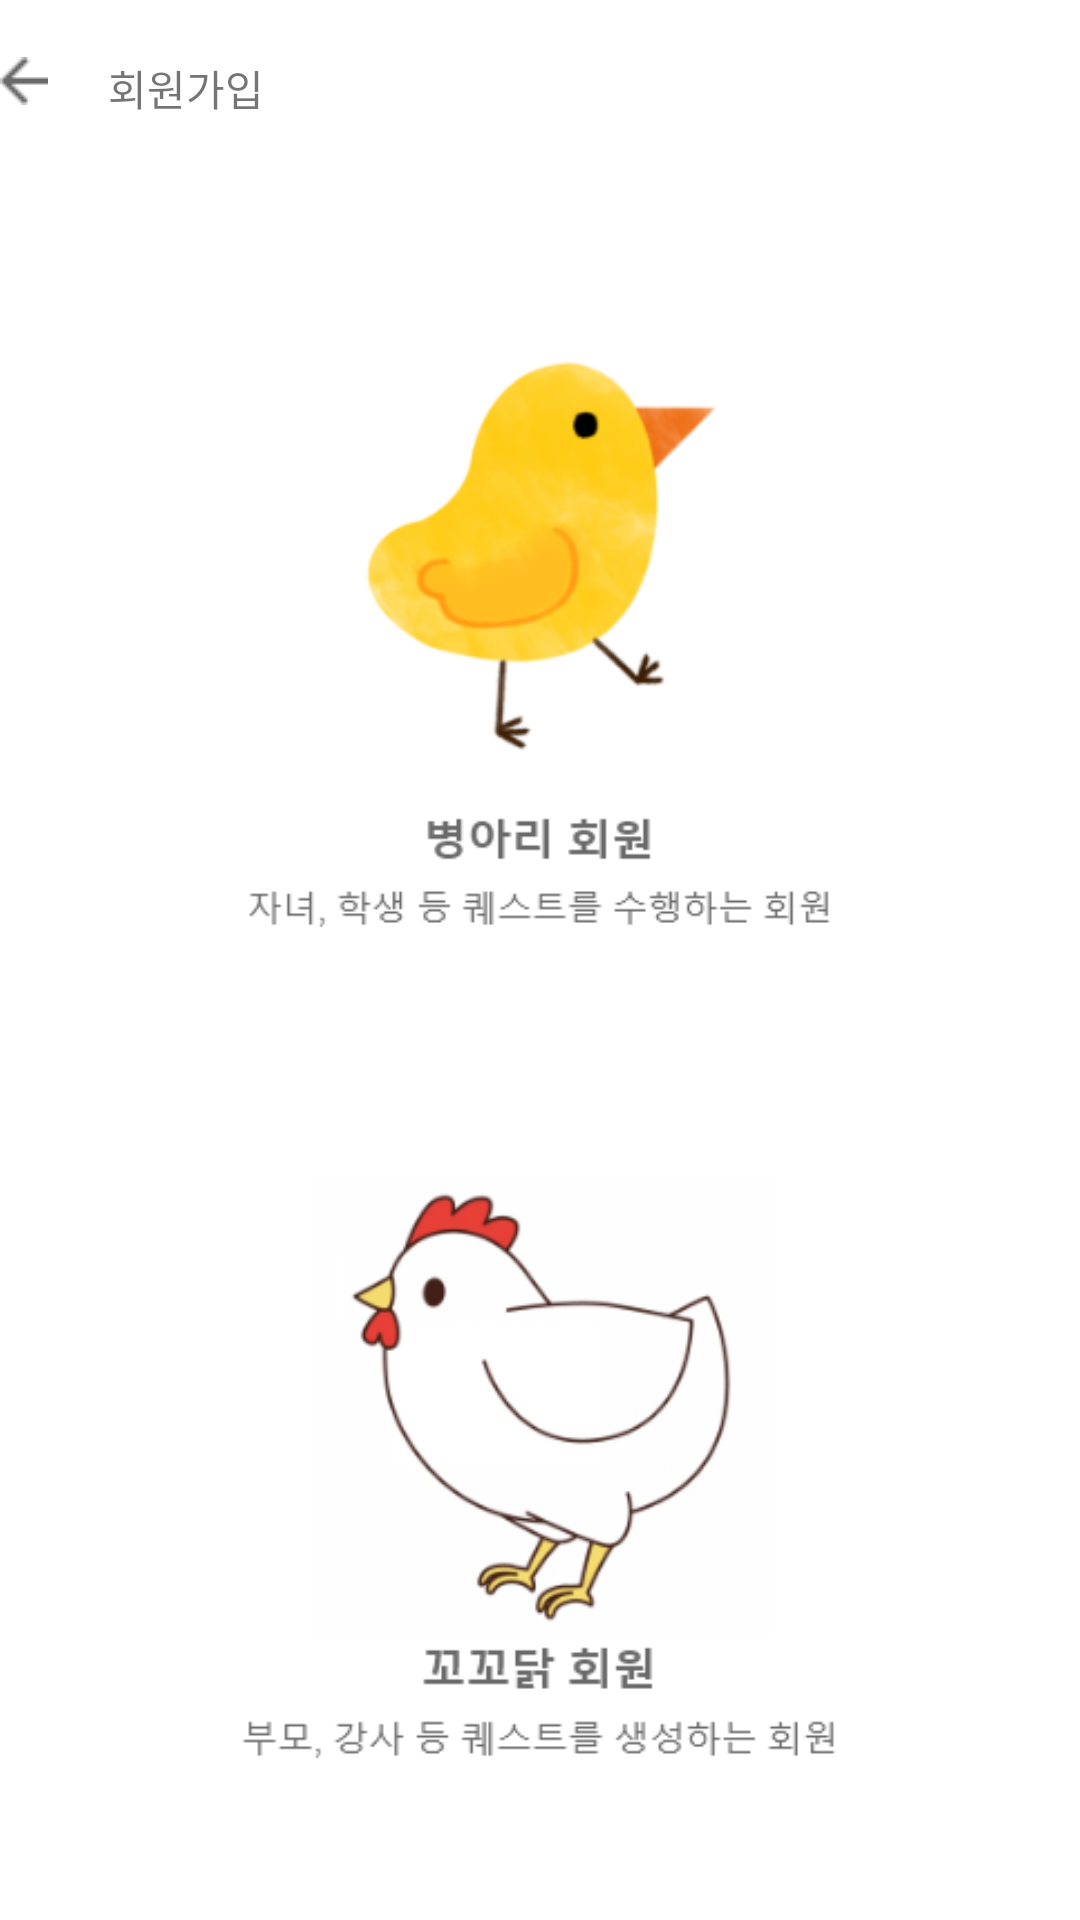

Screen size 1080 × 1920. Icon name, then its box in pixels as (x1, y1, x2, y2):
back: (0, 57, 48, 105)
